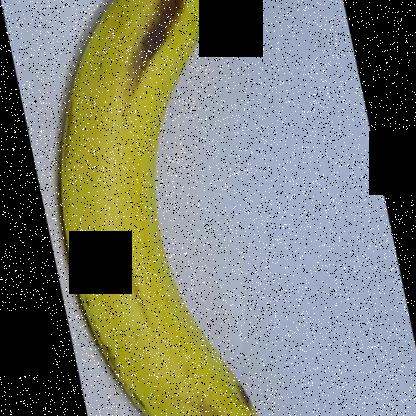freshripe: (54, 0, 274, 415)
